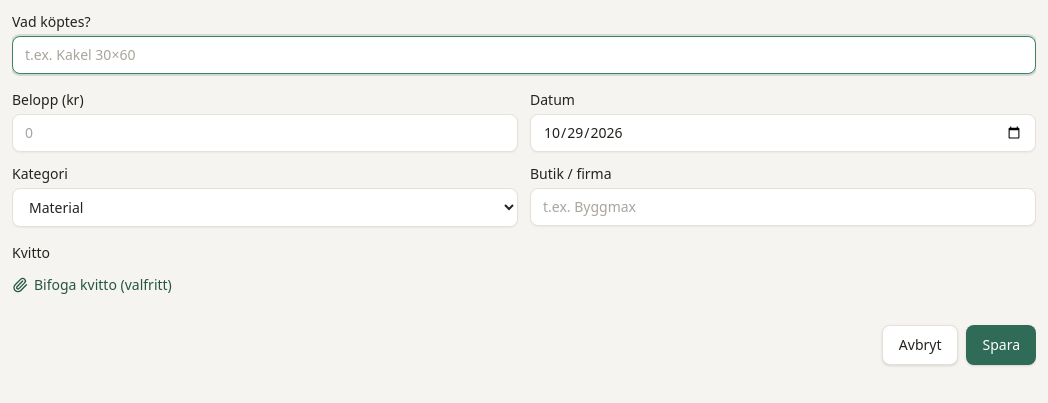
Test case: ExpenseForm › visar serverns fältfel vid rätt fält
The image size is (1048, 403).
Type "Färg" into the field labelled "Vad köptes?" at (524, 55), box [12, 36, 1036, 74]
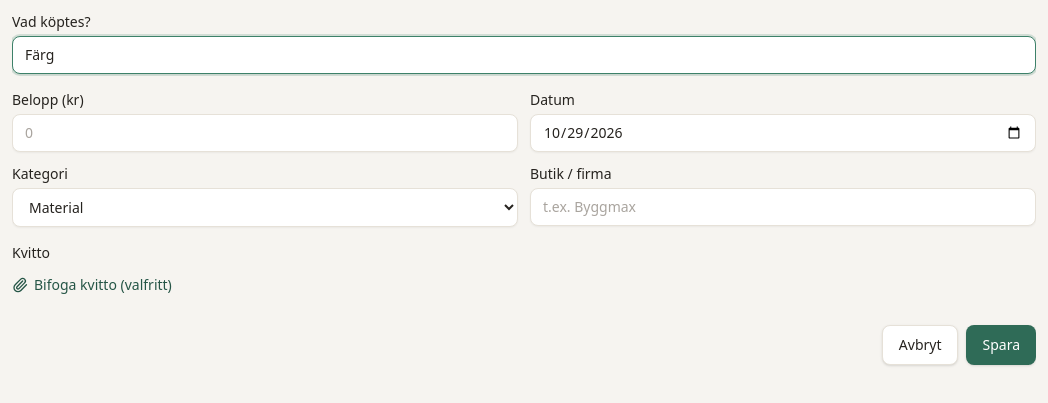
Type "100" into the field labelled "Belopp (kr)" at (265, 133), box [12, 114, 518, 152]
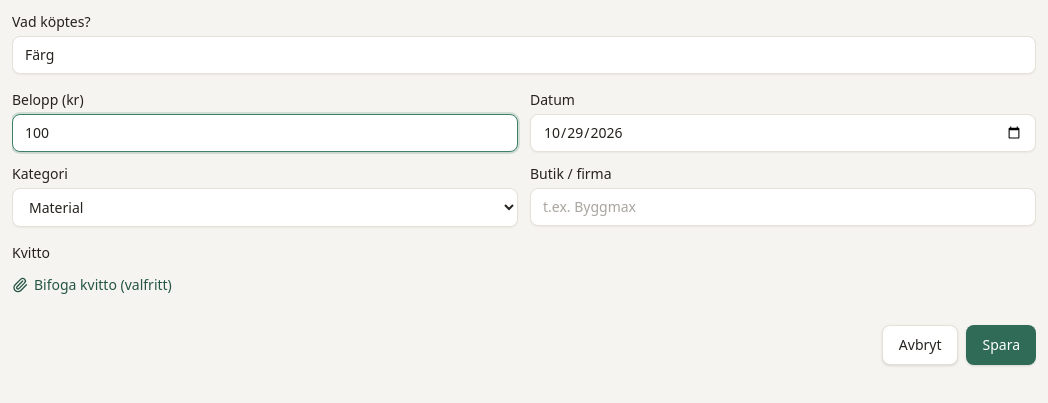
Click the button "Spara" at (1001, 345), box [966, 325, 1036, 365]
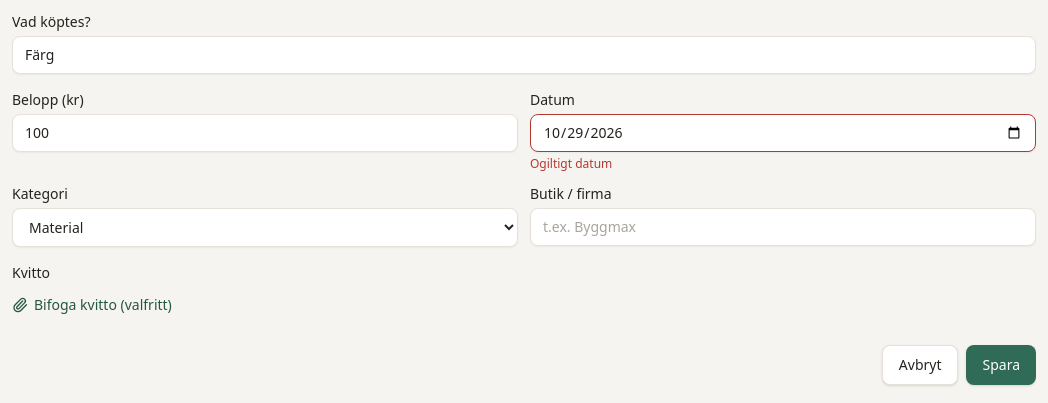
Now the text "Ogiltigt datum" is shown, box [530, 155, 612, 172]
